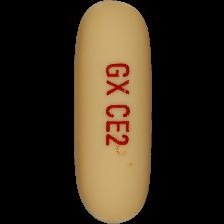0173-0712: (0, 0, 224, 224)
